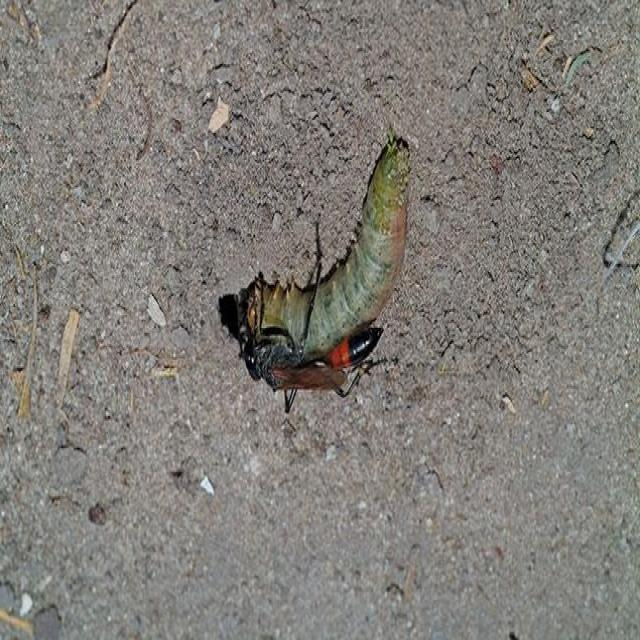army worm: (228, 126, 421, 423)
